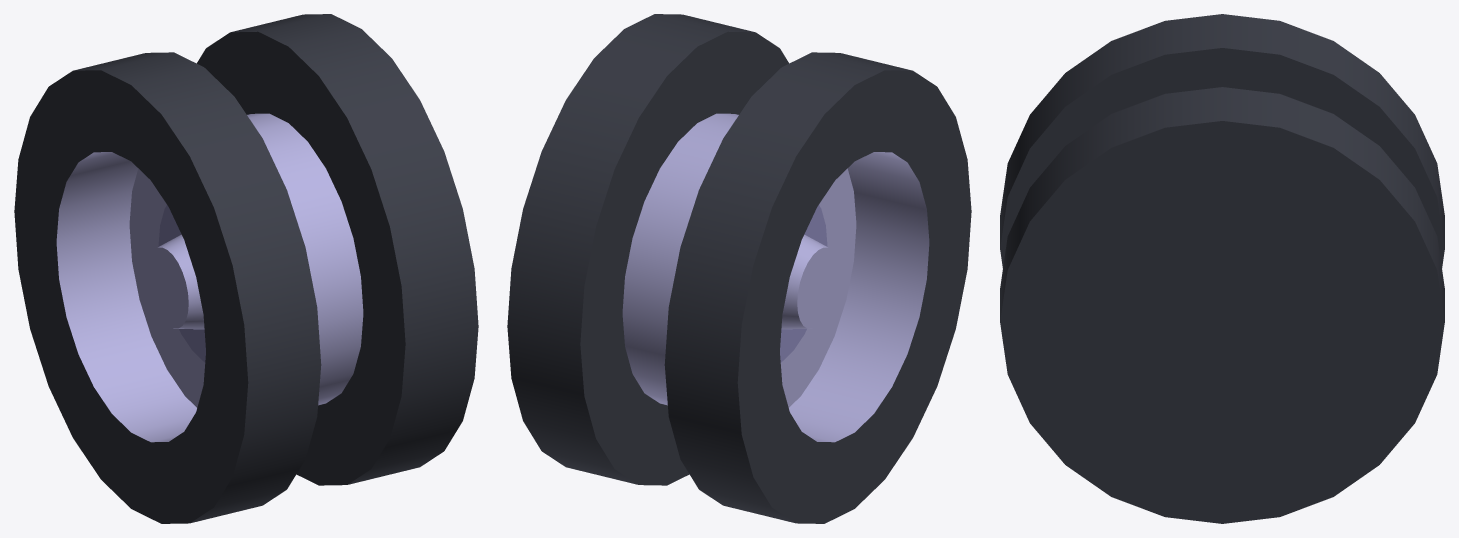
The model's file is Wheel (Tank).fbx.
3 views of the same model, side by side, from view 1: azimuth 30°, elevation 25°; view 2: azimuth 150°, elevation 25°; view 3: azimuth 270°, elevation 25° (orthographic). The views are drawn at different scales.
Parts seen in each view (by area): view 1: mergedBlocks; view 2: mergedBlocks; view 3: mergedBlocks.
Boxes of the visible parts, bbox=[...] form: mergedBlocks: bbox=[14, 14, 478, 523]; mergedBlocks: bbox=[507, 14, 971, 523]; mergedBlocks: bbox=[1000, 14, 1444, 523].
Bounding box in the file's own units: 3.16 × 5.55 × 5.55.
